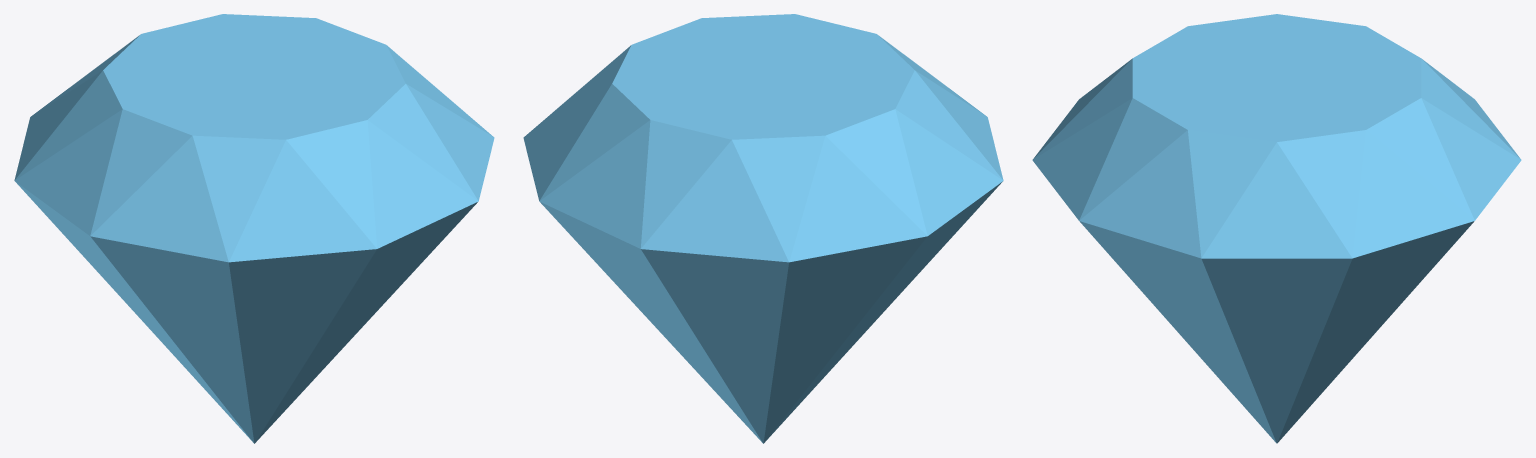
The model's file is gem.glb.
The picture shows the model from 3 angles, left to right: view 1: azimuth 30°, elevation 25°; view 2: azimuth 150°, elevation 25°; view 3: azimuth 270°, elevation 25°; orthographic projection.
Visible parts, largest first — view 1: gem; view 2: gem; view 3: gem.
Boxes of the visible parts, left/top/right/bottom form: gem: left=14, top=14, right=494, bottom=443; gem: left=523, top=14, right=1003, bottom=443; gem: left=1032, top=14, right=1521, bottom=443.
Bounding box in the file's own units: 1.9 × 1.65 × 2.
